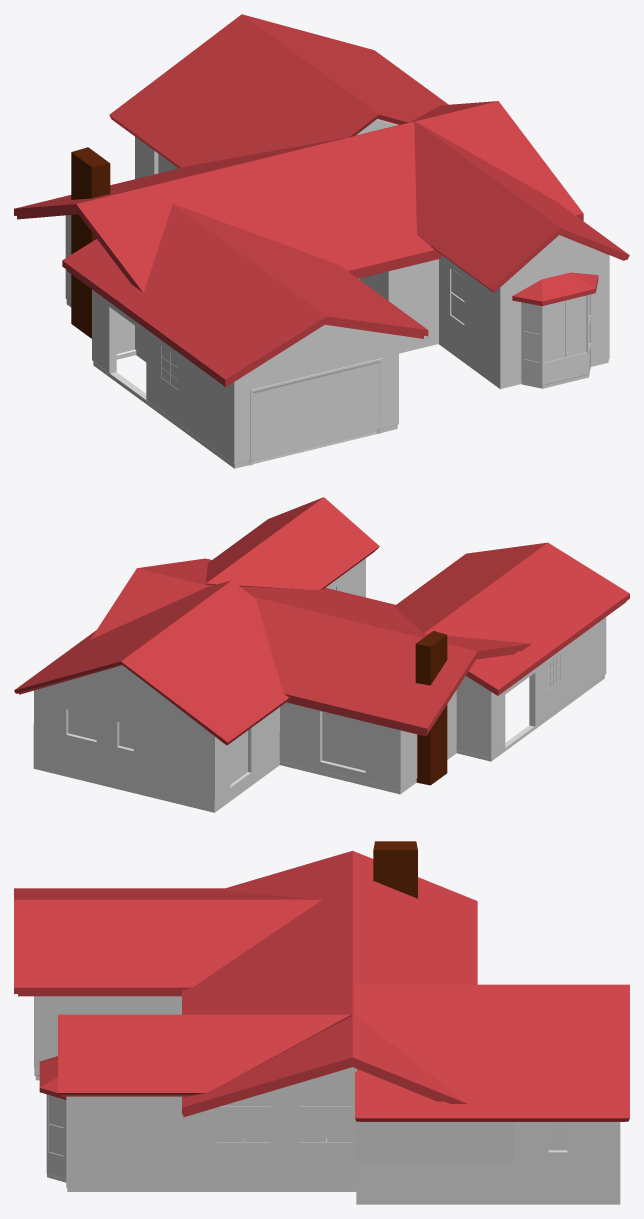
File: DDHome2.fbx
3 renders of one model, top to bottom at view 1: azimuth 30°, elevation 25°; view 2: azimuth 150°, elevation 25°; view 3: azimuth 270°, elevation 25°, orthographic. The views are drawn at different scales.
Parts seen in each view (by area): view 1: Main Roof, Master Bedroom Roof, Garage Roof, Garage Room, Bedroom Roof, Front Room, Garage Door, MainRoomRight, Chimney, Front Bedroom Window, Glass.003, Bay Window Roof (+4 smaller); view 2: Main Roof, MasterBedroom, Master Bedroom Roof, Garage Roof, Bedroom Roof, MainRoomLeft, Garage Room, Chimney, Front Room; view 3: Main Roof, Master Bedroom Roof, Garage Roof, Front Room, MasterBedroom, Bedroom Roof, Garage Room, Chimney, Window.001, Window.002, Front Bedroom Window, Glass.002 (+2 smaller).
Boxes of the visible parts, x1,y1,x2,y2 form: Main Roof: (14, 101, 583, 292); Master Bedroom Roof: (109, 14, 448, 168); Garage Roof: (62, 204, 428, 386); Garage Room: (92, 289, 398, 468); Bedroom Roof: (414, 121, 629, 292); Front Room: (439, 235, 609, 388); Garage Door: (254, 363, 378, 462); MainRoomRight: (359, 259, 438, 353); Chimney: (71, 147, 110, 338); Front Bedroom Window: (521, 294, 590, 388); Glass.003: (545, 295, 586, 362); Bay Window Roof: (512, 272, 598, 306); Main Roof: (90, 558, 531, 736); MasterBedroom: (33, 665, 279, 812); Master Bedroom Roof: (14, 580, 288, 745); Garage Roof: (394, 542, 629, 695); Bedroom Roof: (206, 497, 379, 590); MainRoomLeft: (279, 690, 456, 794); Garage Room: (456, 617, 606, 761); Chimney: (415, 631, 447, 785); Front Room: (326, 558, 365, 597); Main Roof: (182, 850, 477, 1117); Master Bedroom Roof: (355, 984, 629, 1121); Garage Roof: (14, 888, 322, 996); Front Room: (66, 1067, 356, 1191); MasterBedroom: (356, 1121, 620, 1204); Bedroom Roof: (58, 1014, 351, 1096); Garage Room: (34, 996, 181, 1080); Chimney: (373, 841, 417, 898); Window.001: (299, 1106, 353, 1142); Window.002: (217, 1106, 270, 1142); Front Bedroom Window: (46, 1094, 66, 1182); Glass.002: (49, 1095, 63, 1155).
Bounding box in the file's own units: 974 × 351 × 1135.
